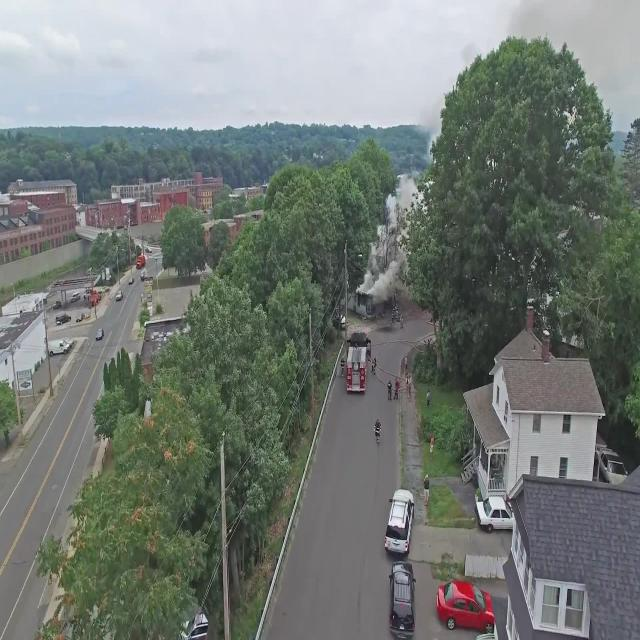Smoke: (356, 36, 496, 302)
